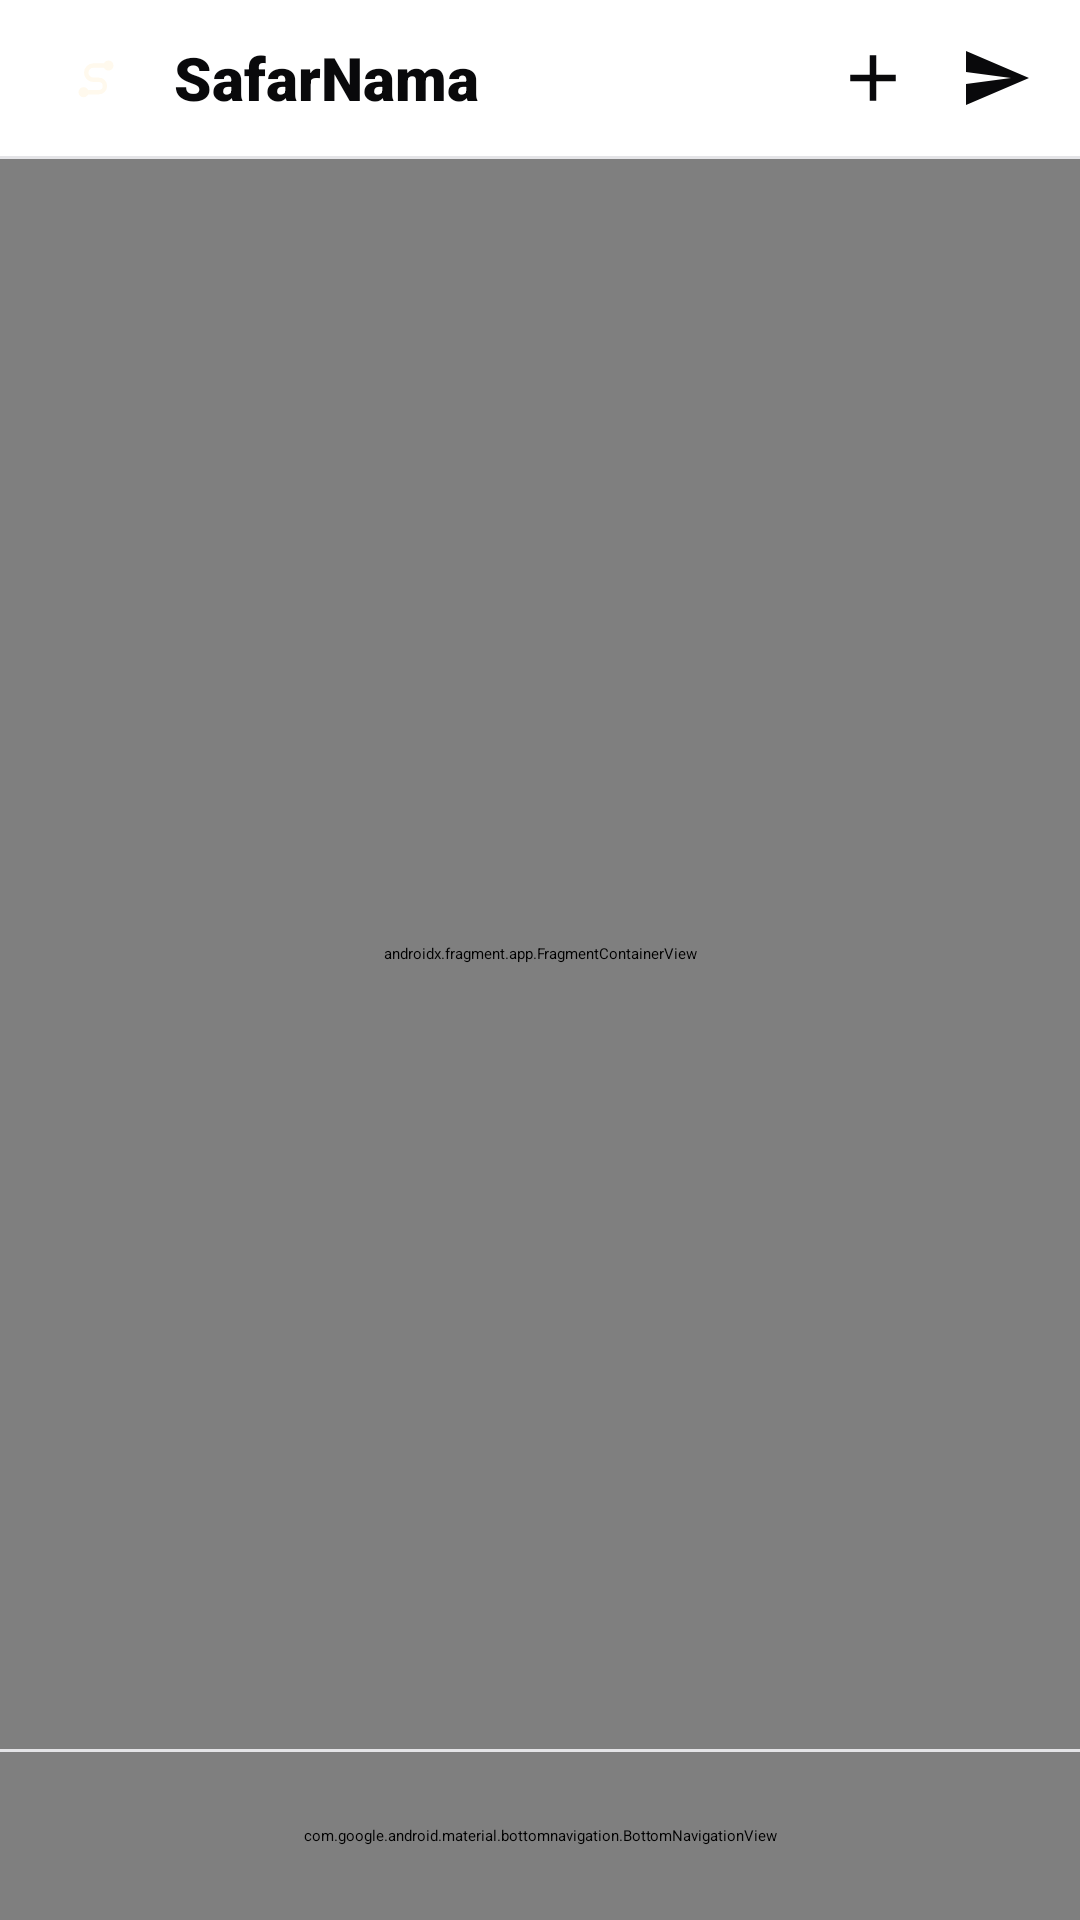

Locate icon controls on the screen. Image size 1080w x 1920h, boxes as box=[x1, y1, x2, y2].
Create travel story: box=[850, 55, 896, 101]
Direct Messages: box=[966, 51, 1029, 105]
